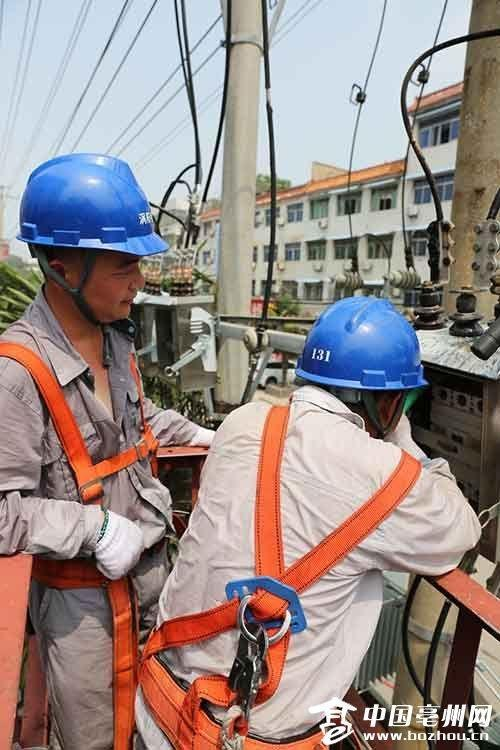helmet: (286, 289, 441, 395), (21, 147, 163, 258)
person: (188, 289, 487, 750), (3, 134, 198, 750)
